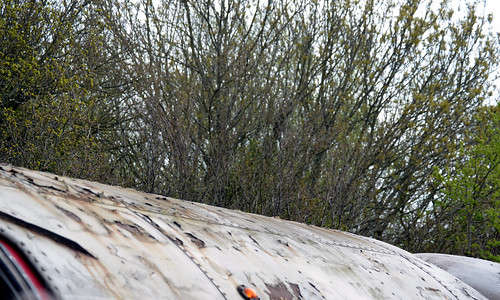vegetation: (1, 1, 499, 227)
